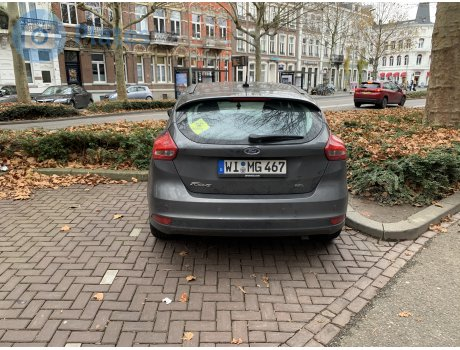License Plates: (223, 158, 285, 174)
